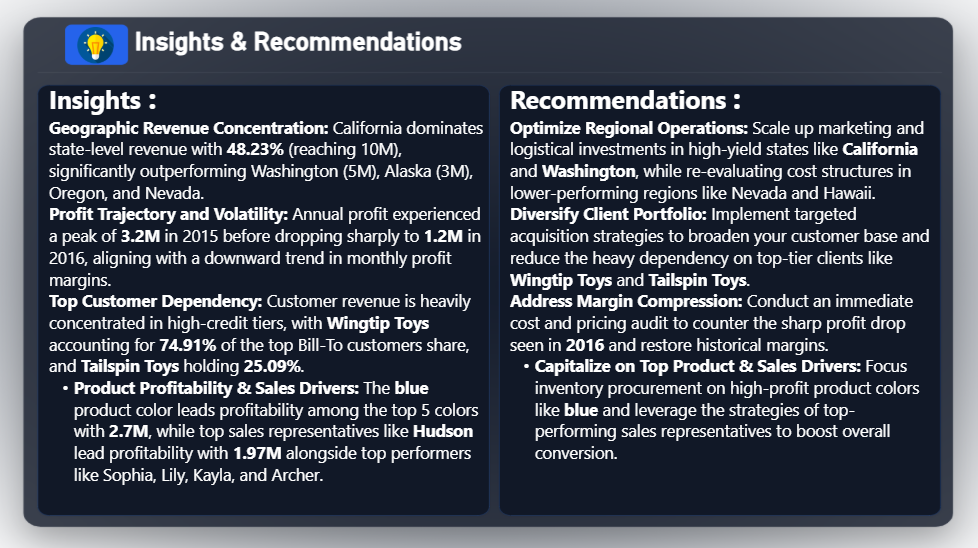

The page's visual inventory and layout, read from the dashboard file:
{"tool":"powerbi","page":{"name":"Insights & Recommendations","canvas":[1280,720],"ordinal":4},"visuals":[{"type":"shape","title":"Insights & Recommendations","box":[182.9,41.4,444.3,47.1],"z":0},{"type":"image","box":[97.1,41.4,71.4,47.1],"z":1000},{"type":"textbox","box":[67.1,101.4,572.9,554.3],"z":2000},{"type":"textbox","box":[661.4,101.4,552.9,564.3],"z":3000}]}

Visuals, with their boxes in screenshot pixels (x1, y1, x2, y2), scaled from the page's 1280x720 canvas onto the 978x548 screenshot:
"Insights & Recommendations" shape: bbox=(140, 32, 479, 67)
image: bbox=(74, 32, 129, 67)
textbox: bbox=(51, 77, 489, 499)
textbox: bbox=(505, 77, 928, 507)
